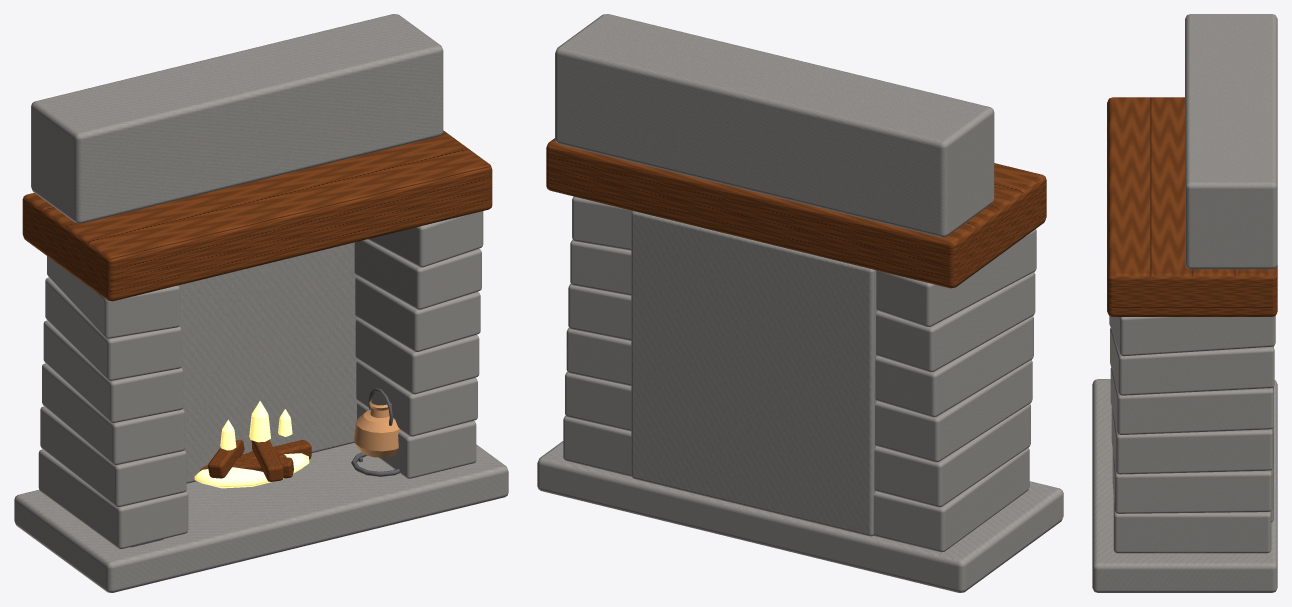
File: witch-cottage-and-apothecary-stone-hearth-12db6eef__32445.glb
3 renders of one model, left to right at view 1: azimuth 30°, elevation 25°; view 2: azimuth 150°, elevation 25°; view 3: azimuth 270°, elevation 25°, orthographic. The views are drawn at different scales.
Parts seen in each view (by area): view 1: stone-hearth; view 2: stone-hearth; view 3: stone-hearth.
Part boxes in pixels (x1,y1,x2,y2): stone-hearth: (14, 14, 508, 592); stone-hearth: (537, 14, 1063, 592); stone-hearth: (1092, 14, 1277, 592).
Size of the model in its own units: 2.4 by 2.4 by 1.
5 materials, 2 textured.
